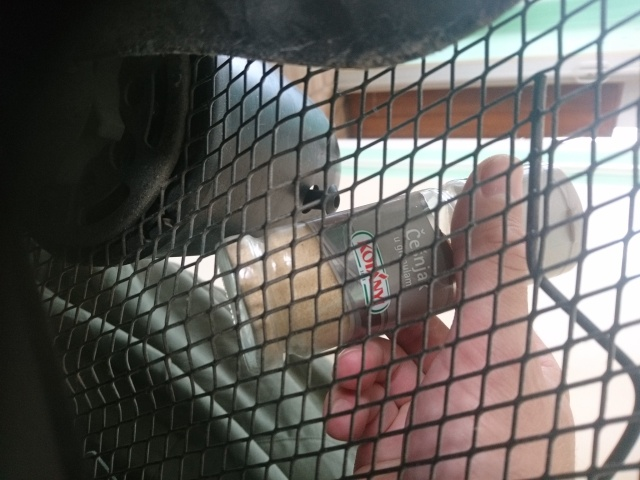Kotanyi Garlic Granules 70g: (211, 164, 591, 379)
